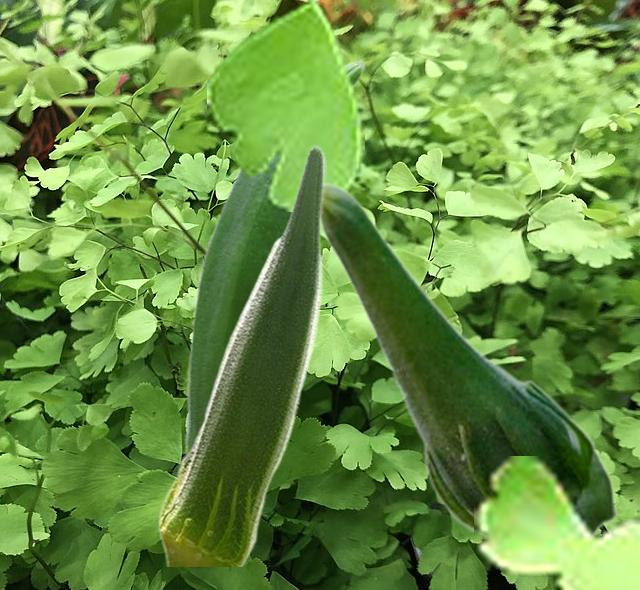okra: (322, 181, 617, 536), (183, 59, 365, 471), (157, 143, 325, 565)
